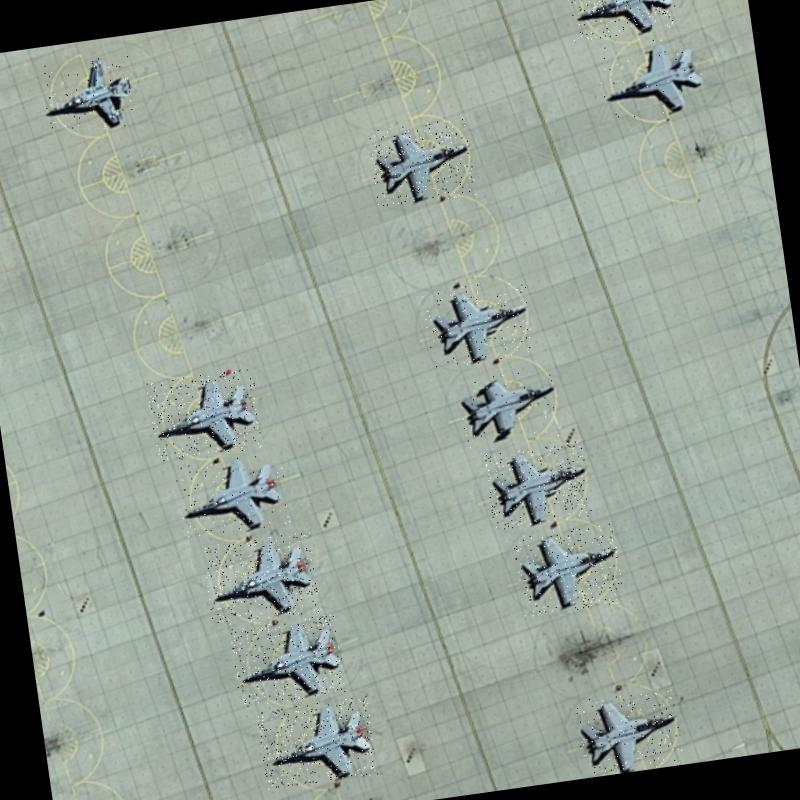A16: (202, 530, 322, 626), (256, 696, 378, 790), (145, 368, 263, 462), (229, 613, 346, 707), (512, 522, 624, 616), (421, 278, 535, 370), (174, 451, 290, 540), (595, 33, 708, 122), (366, 117, 476, 208), (574, 687, 684, 777), (483, 440, 592, 530), (455, 368, 563, 449), (36, 51, 138, 136), (564, 0, 678, 41)
